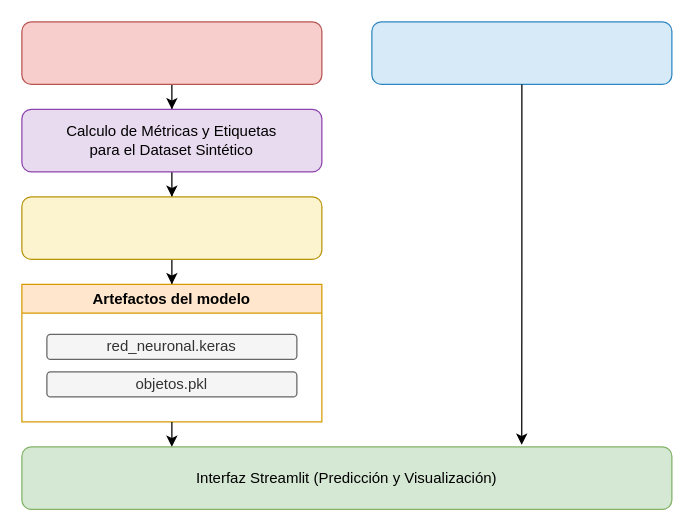
The diagram is 694 pixels wide and 531 high, and some of its shapes have lost their labels. The shapes that lost their labels are listed below. From the top down, each one's centre as x and y in pixels, then its label:
At (x=171, y=52): "Generación de Dataset Sintético (Tableros)".
At (x=521, y=52): "Algoritmos de Búsqueda (BFS, UCS, Greedy, A*)".
At (x=171, y=227): "Entrenamiento de Red Neuronal (TensorFlow/Keras)".
